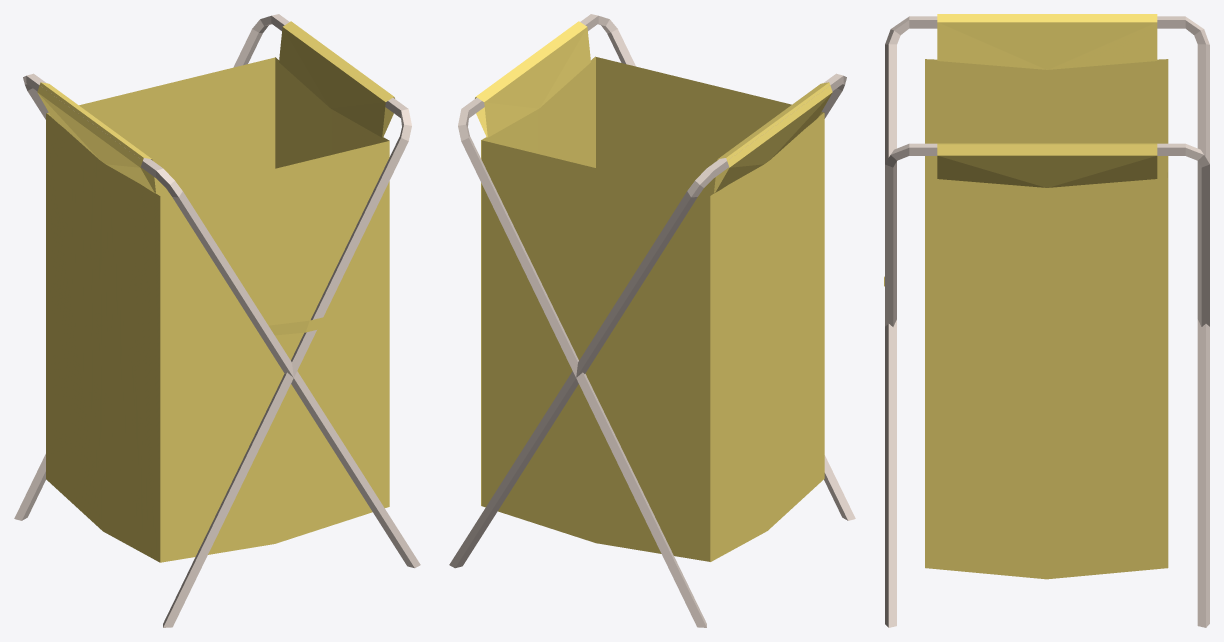
File: Basket_4.fbx
The picture shows the model from 3 angles, left to right: view 1: azimuth 30°, elevation 25°; view 2: azimuth 150°, elevation 25°; view 3: azimuth 270°, elevation 25°; orthographic projection. The views are drawn at different scales.
Visible parts, largest first — view 1: Basket_4; view 2: Basket_4; view 3: Basket_4.
Boxes of the visible parts, bbox=[...] form: Basket_4: bbox=[14, 14, 420, 627]; Basket_4: bbox=[449, 14, 855, 627]; Basket_4: bbox=[884, 14, 1209, 627].
Bounding box in the file's own units: 54.29 × 55.81 × 91.04.
